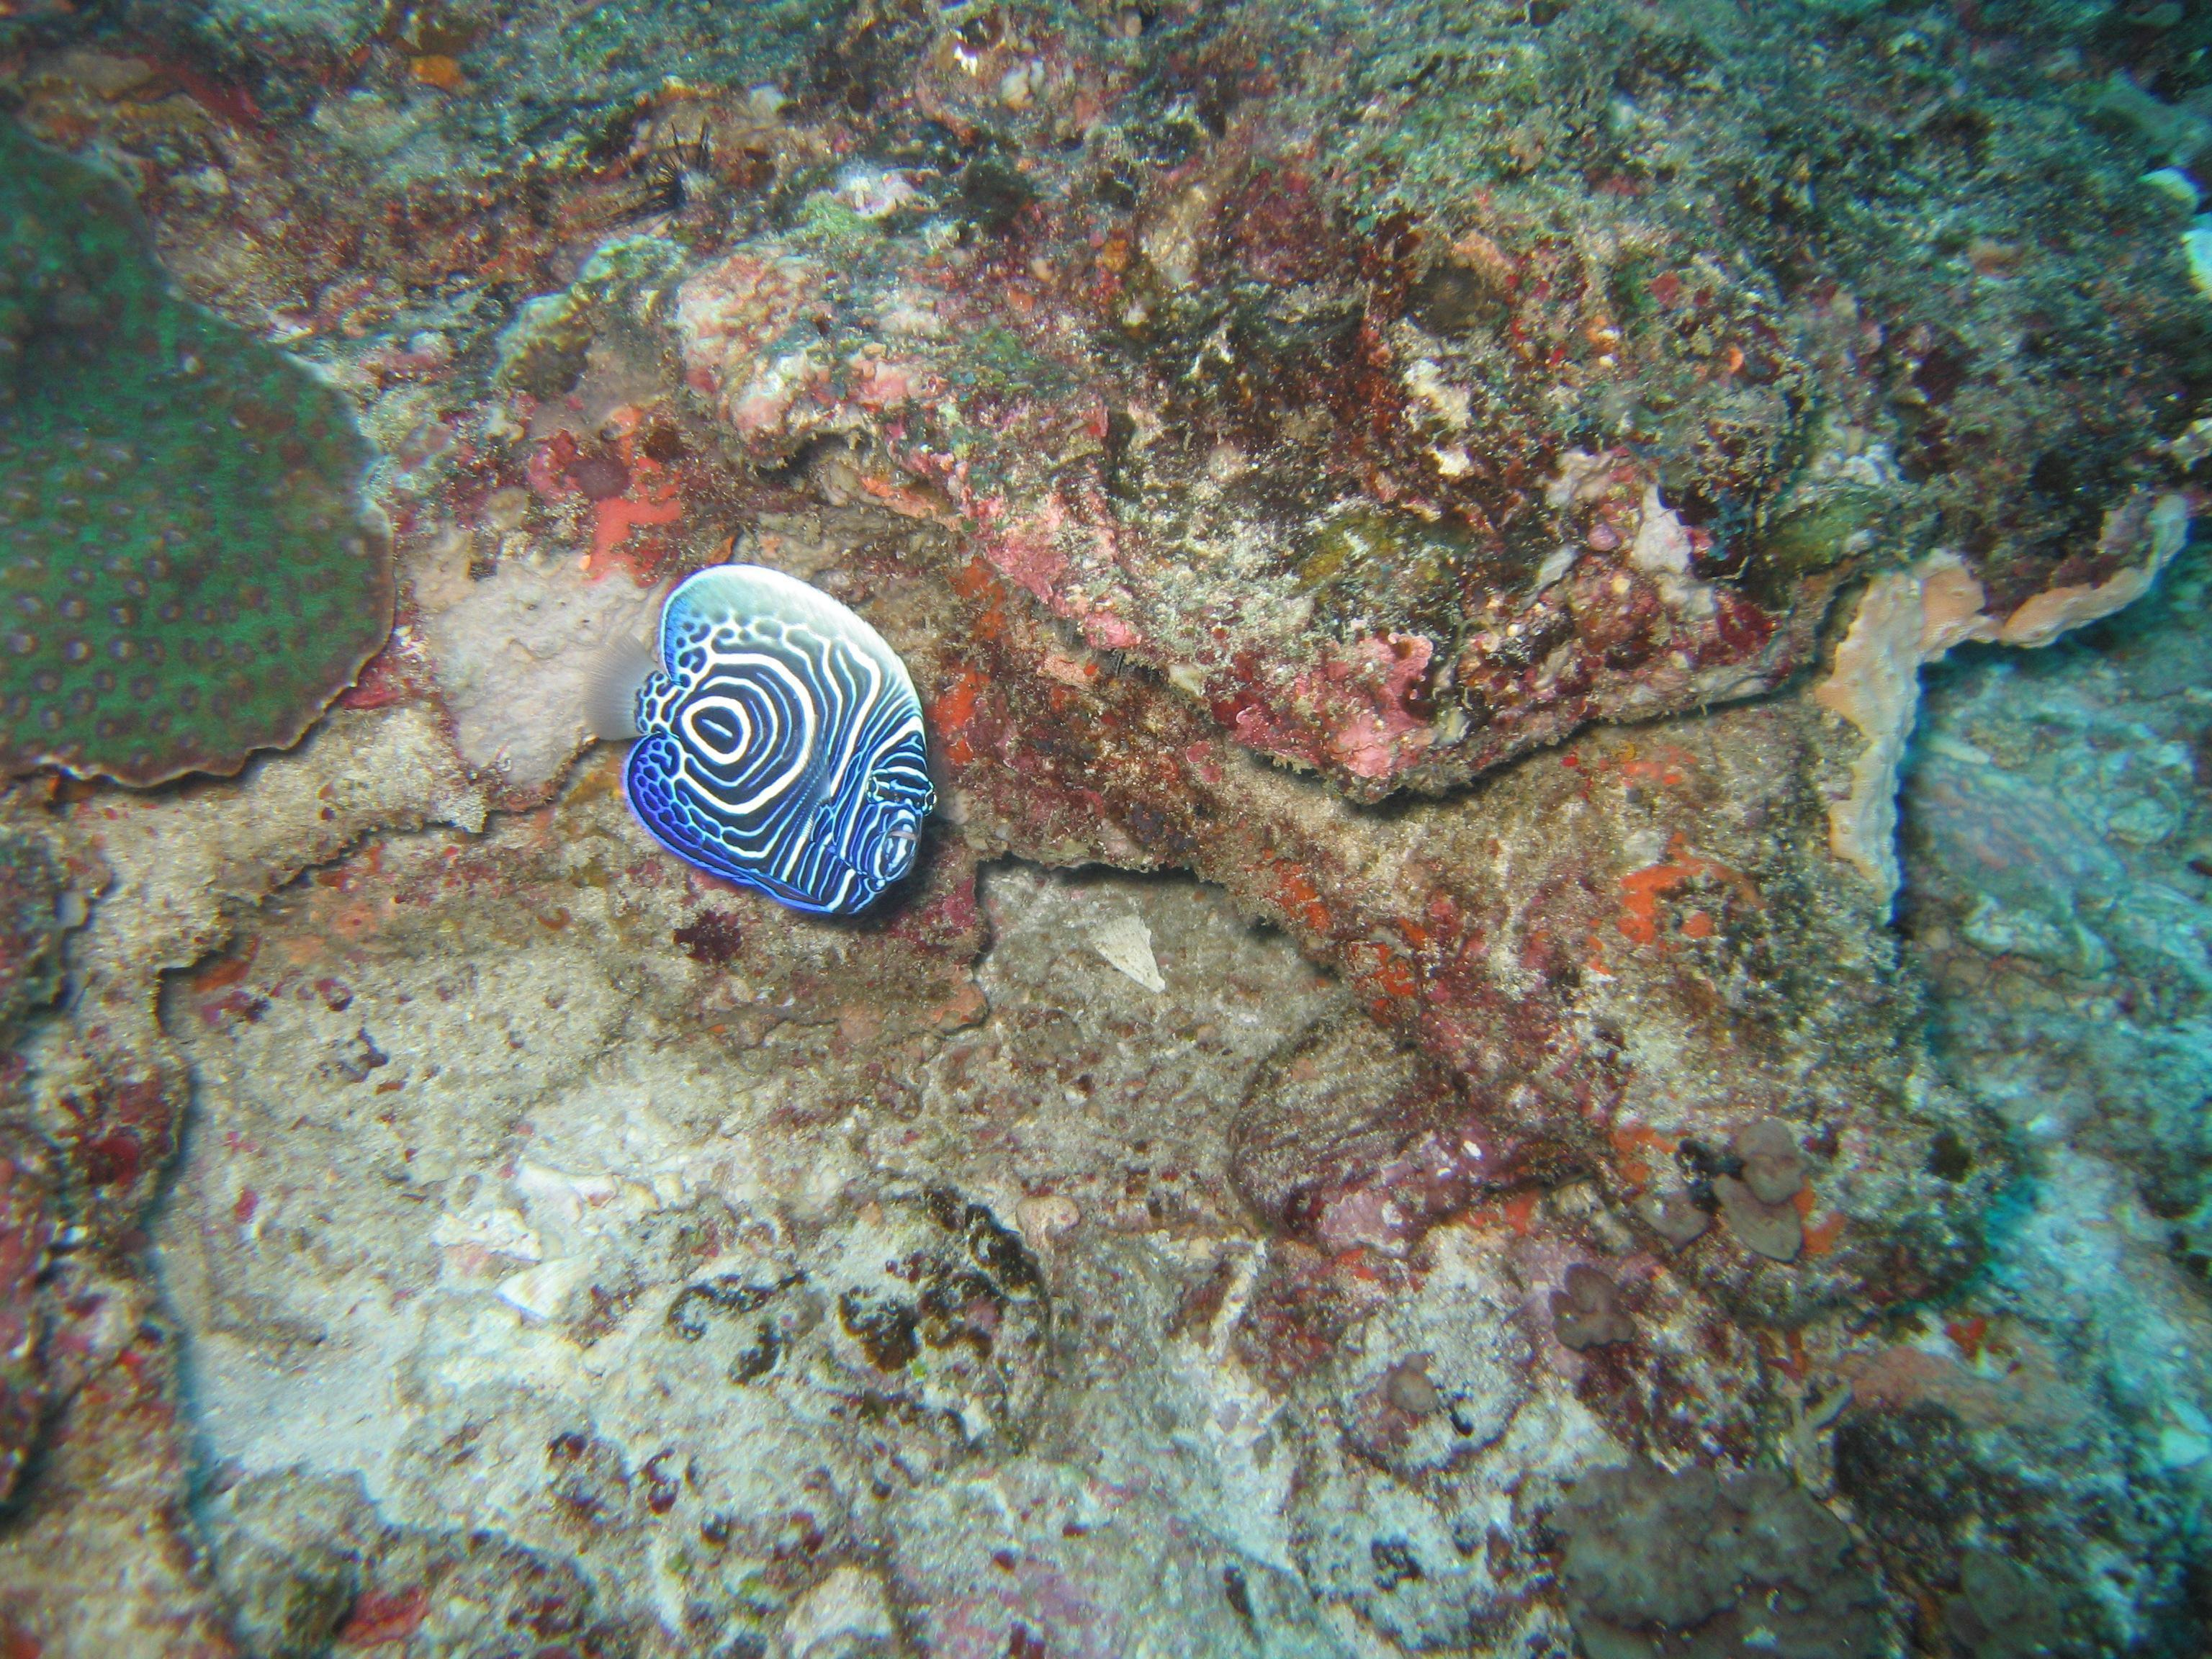Fish: (596, 469, 995, 1016)
